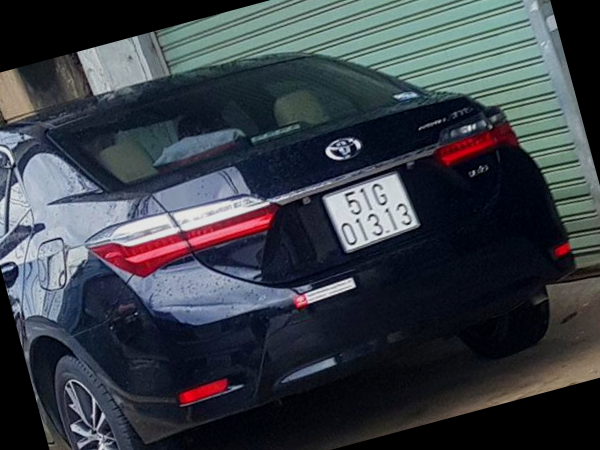lisence: (324, 171, 420, 254)
